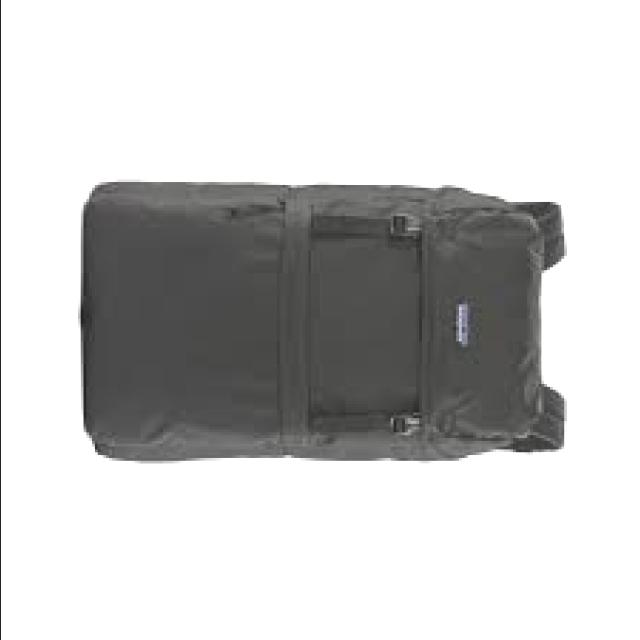backpack: (81, 181, 570, 465)
